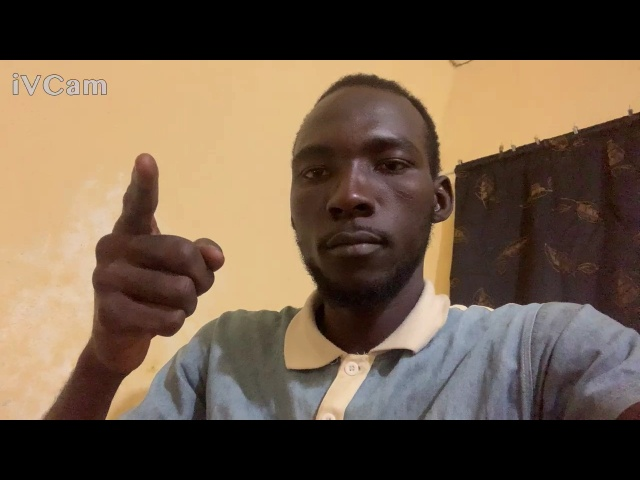tu: (84, 148, 227, 368)
